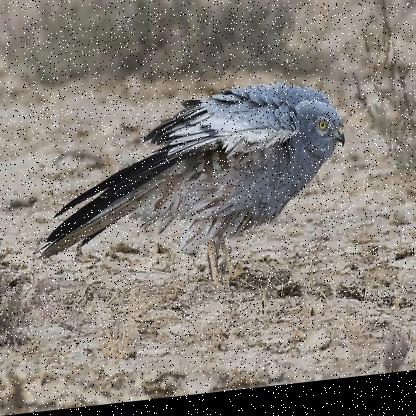Burung: (38, 80, 352, 287)
